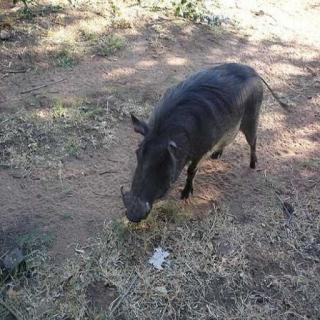Pig: (110, 45, 284, 236)
